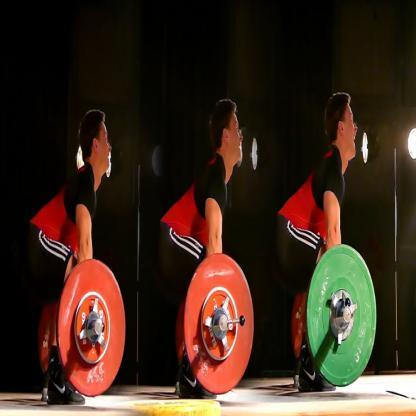barbell: (184, 254, 255, 394), (308, 245, 376, 385), (57, 259, 125, 397)
